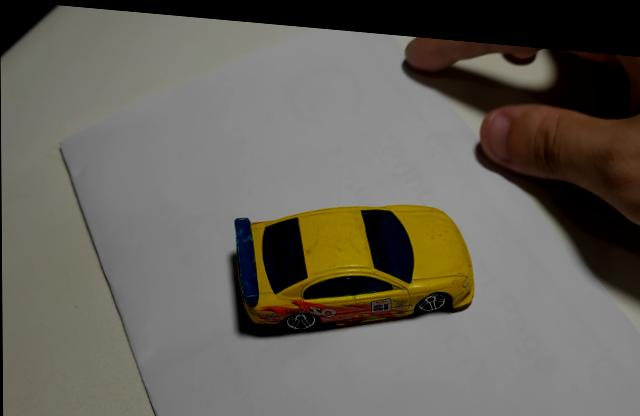02_OZSOME: (231, 197, 474, 328)
